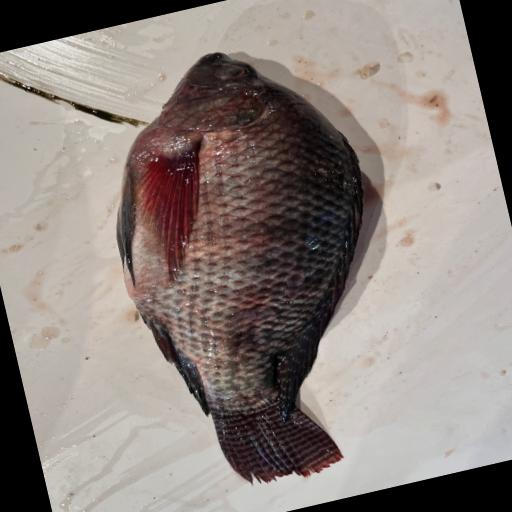Tilapia: (79, 27, 426, 507)
